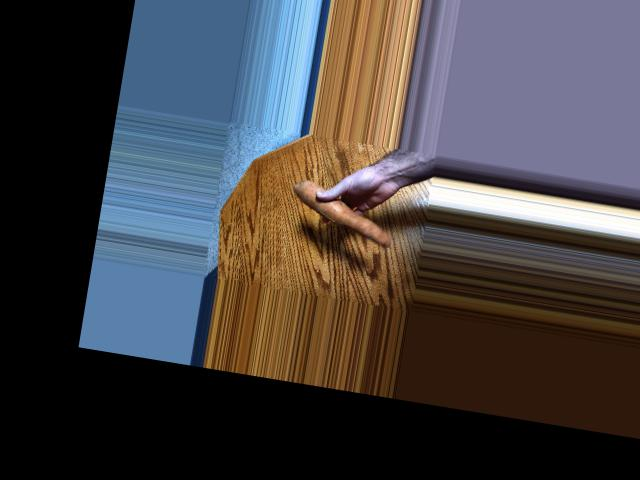sweet_potato: (284, 189, 397, 240)
